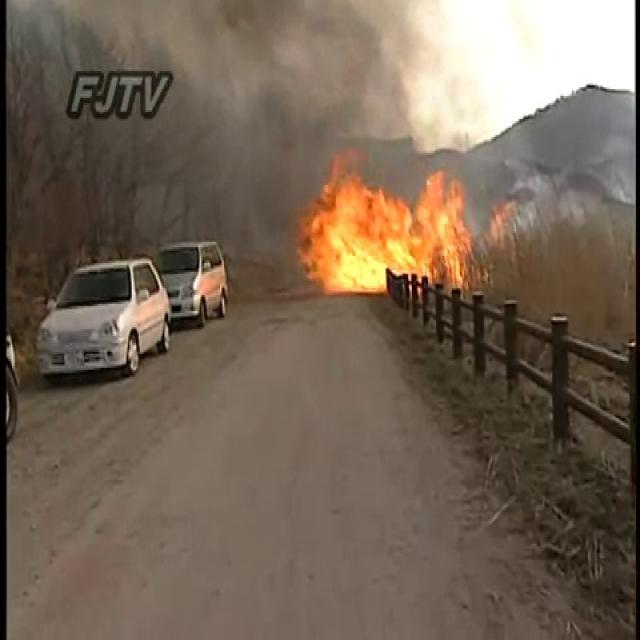Fire: (300, 158, 475, 292)
Smoke: (156, 0, 479, 153)
